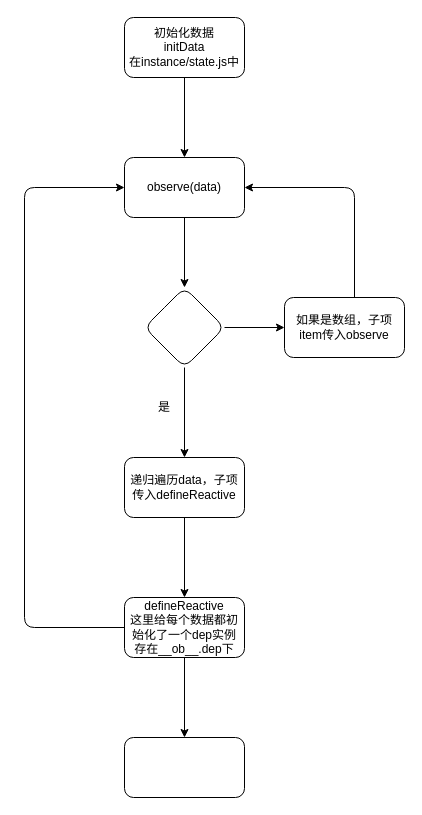
Image size: 422x815. Some labels were removed from this diagram. Here are the shapes that lost their labels. From the top down, the centre of each, then its label:
point 184,327: 是否是对象
point 184,767: Object.defineProperty
